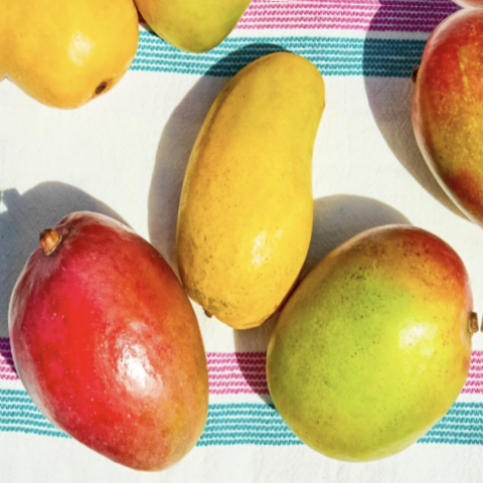mango: (0, 163, 233, 482), (253, 172, 483, 483), (158, 28, 338, 357)
